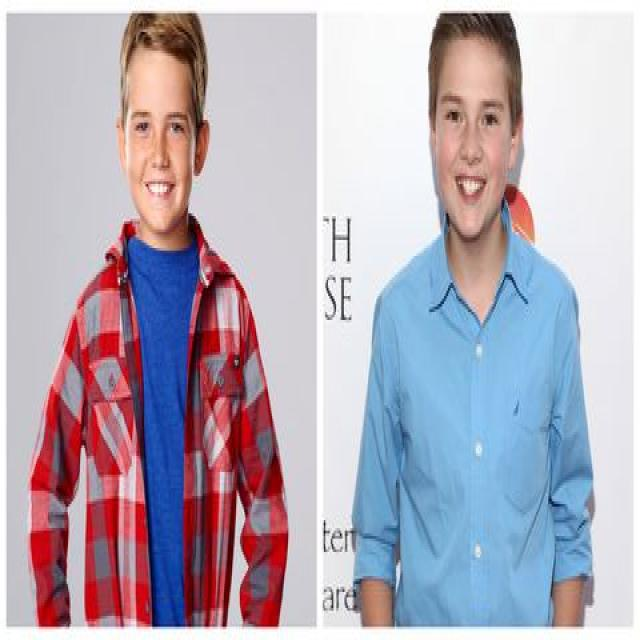human: (29, 11, 292, 628), (347, 12, 609, 631)
